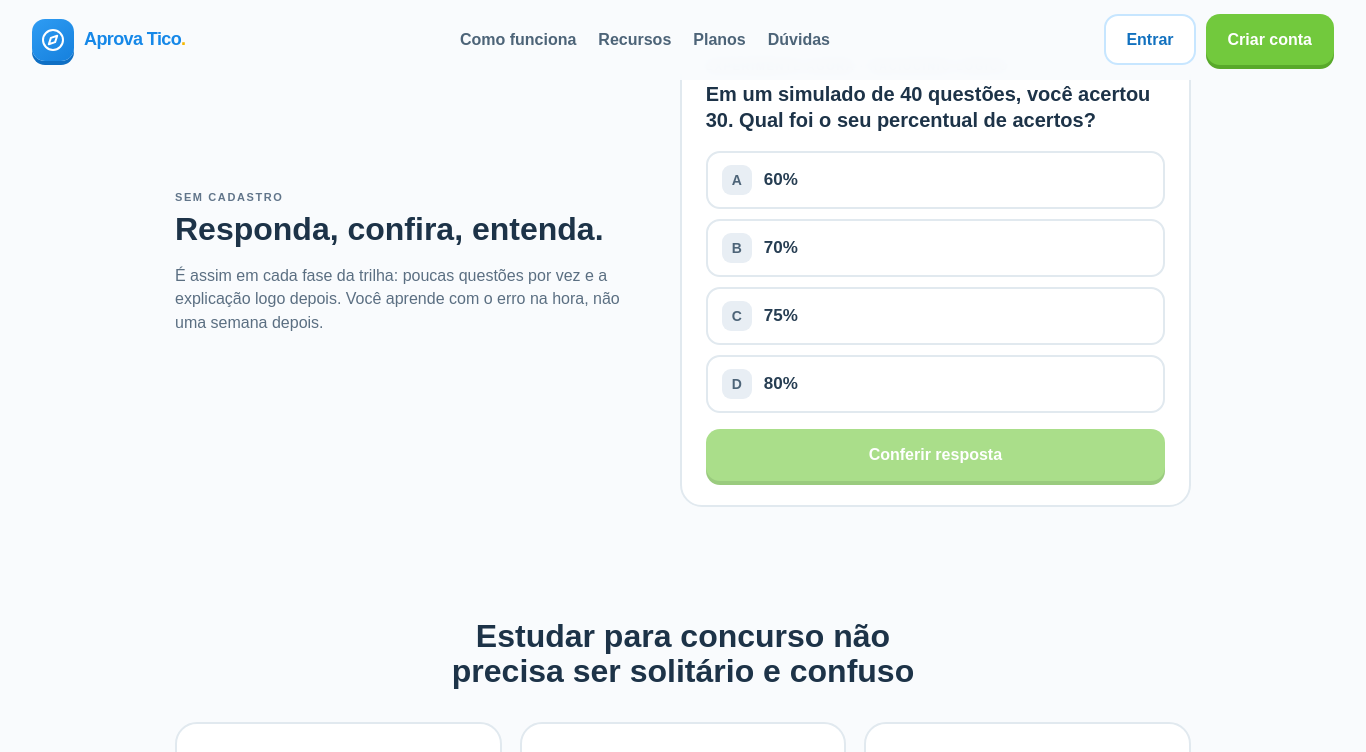
Test: página inicial › questão de demonstração: erro mostra a resposta certa
(page scrolled)
Click the radio button labelled "D 80%" at [781, 384], box [706, 355, 1165, 413]
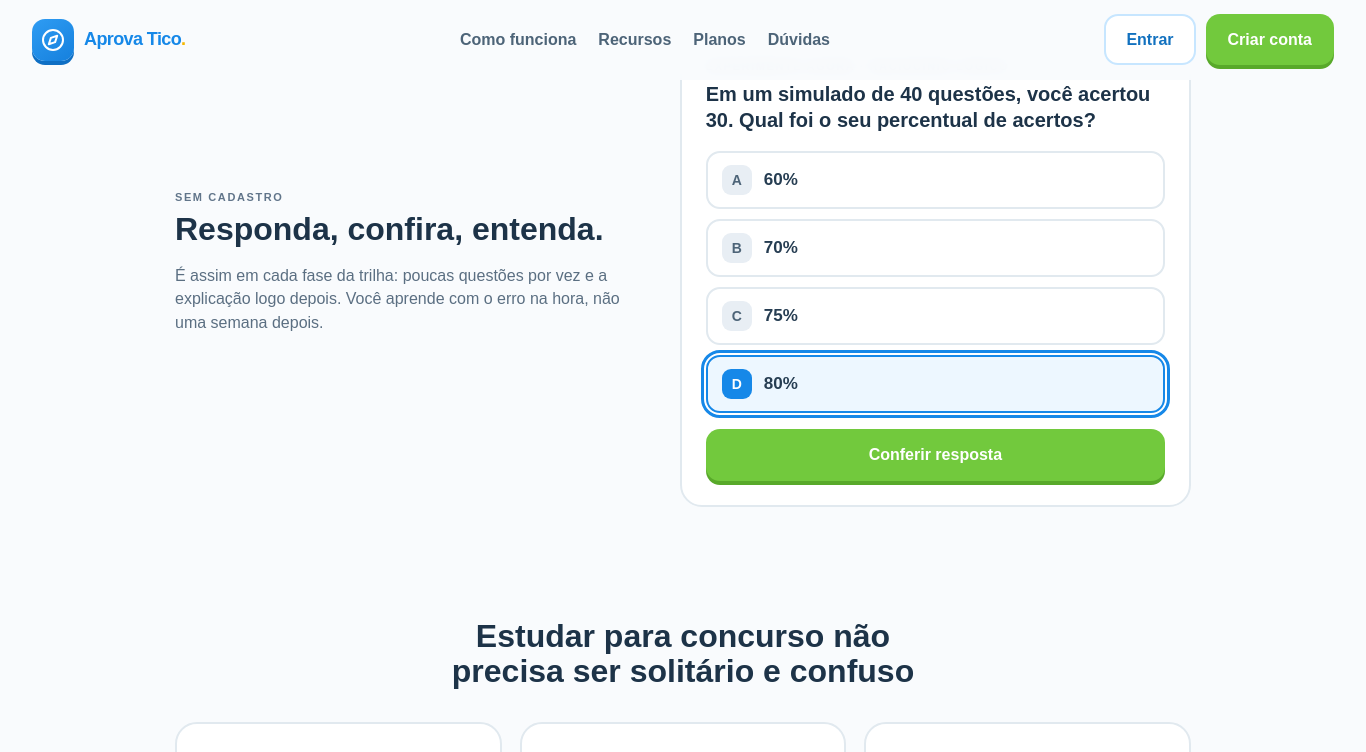
Click the button "Conferir resposta" at [935, 455], box [706, 429, 1165, 481]
(page scrolled)
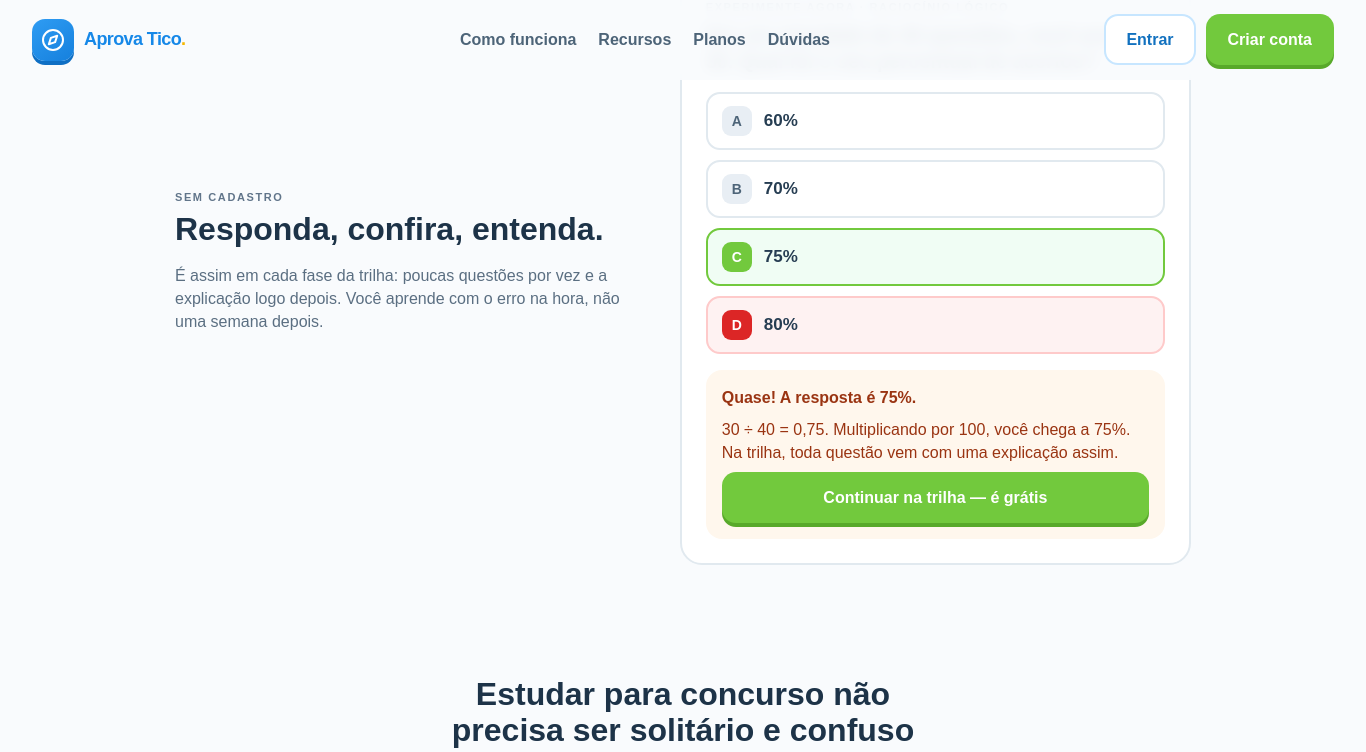
expect the message shows "A resposta é 75%": met, box [722, 389, 916, 406]
